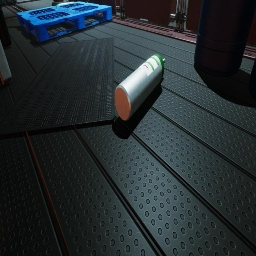0: (115, 54, 165, 121), (57, 2, 74, 6)
NitrogenTank ,: (53, 0, 64, 2)
